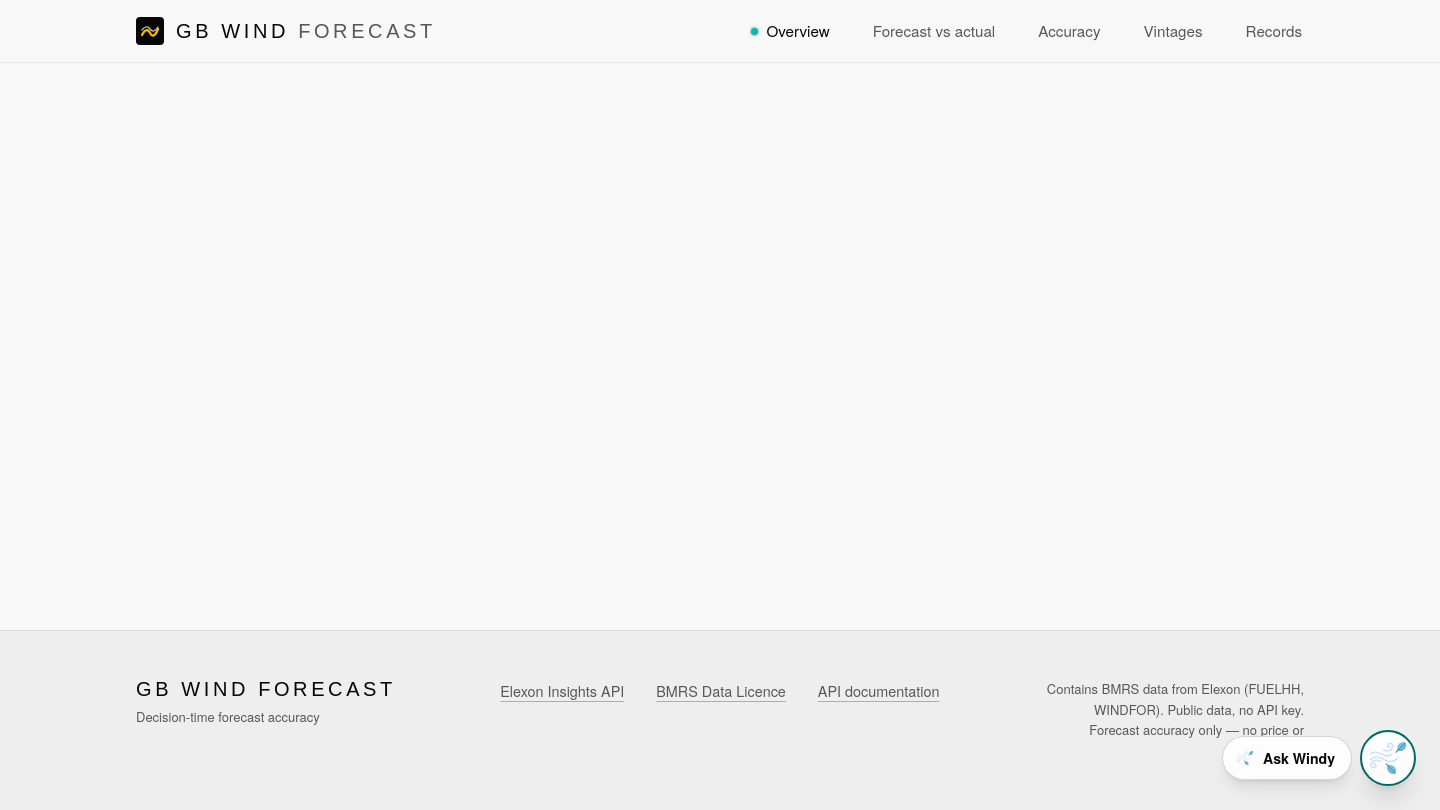
WindyWidget › renders floating launcher and toggles open/close
This screenshot has width=1440, height=810.
// Open chat
Click the button named "Open Windy".
click(1388, 758)  # box [1360,730,1416,786]
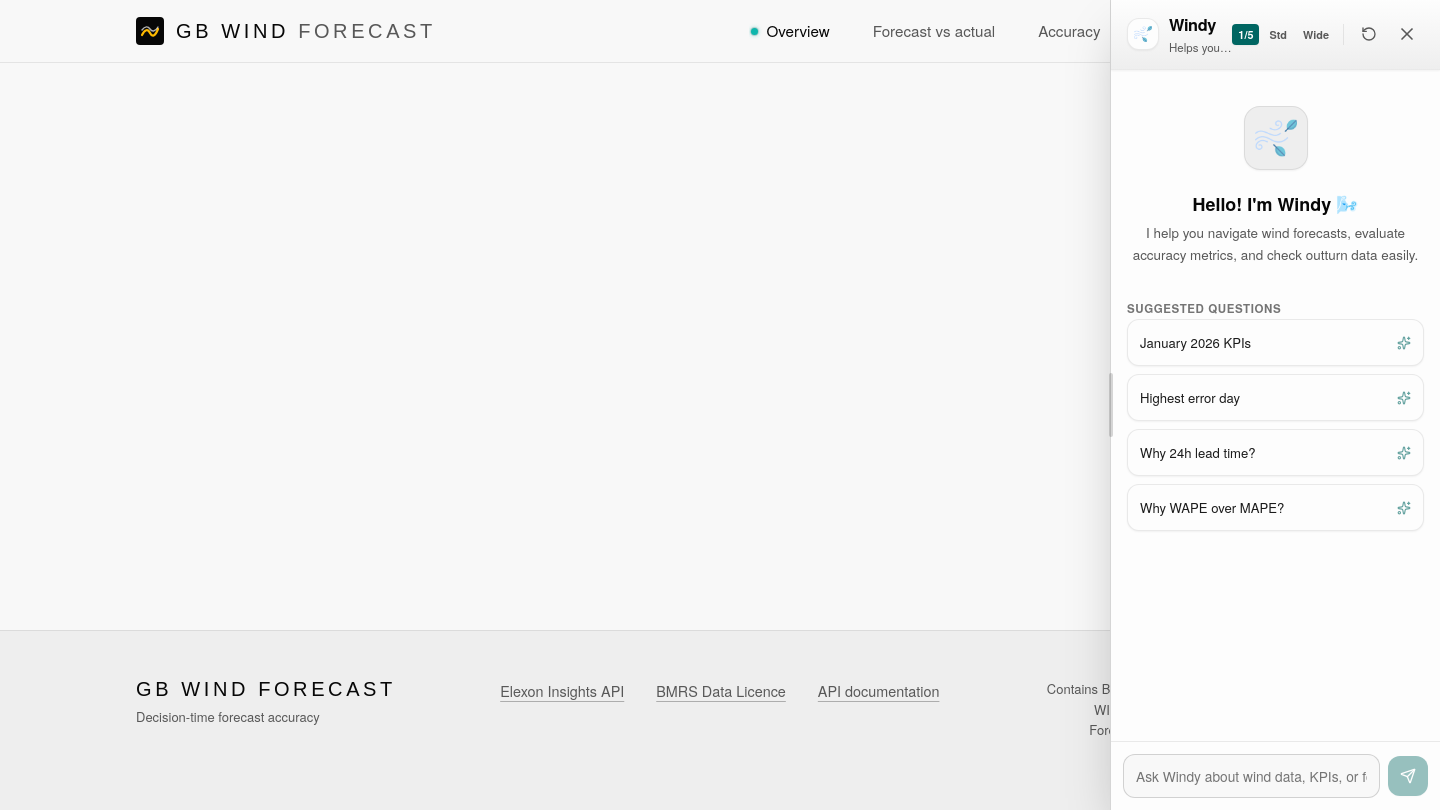
Expected: the dialog "Windy" is shown, [1110,0,1439,809]
Expected: the heading "Hello! I'm Windy 🌬️" is shown, [1192,190,1358,216]
Expected: the text "Helps you explore forecasts and data easily" is shown, [1169,38,1232,56]
// Close chat
Click the button named "Close Windy drawer".
click(1407, 34)  # box [1390,17,1424,51]
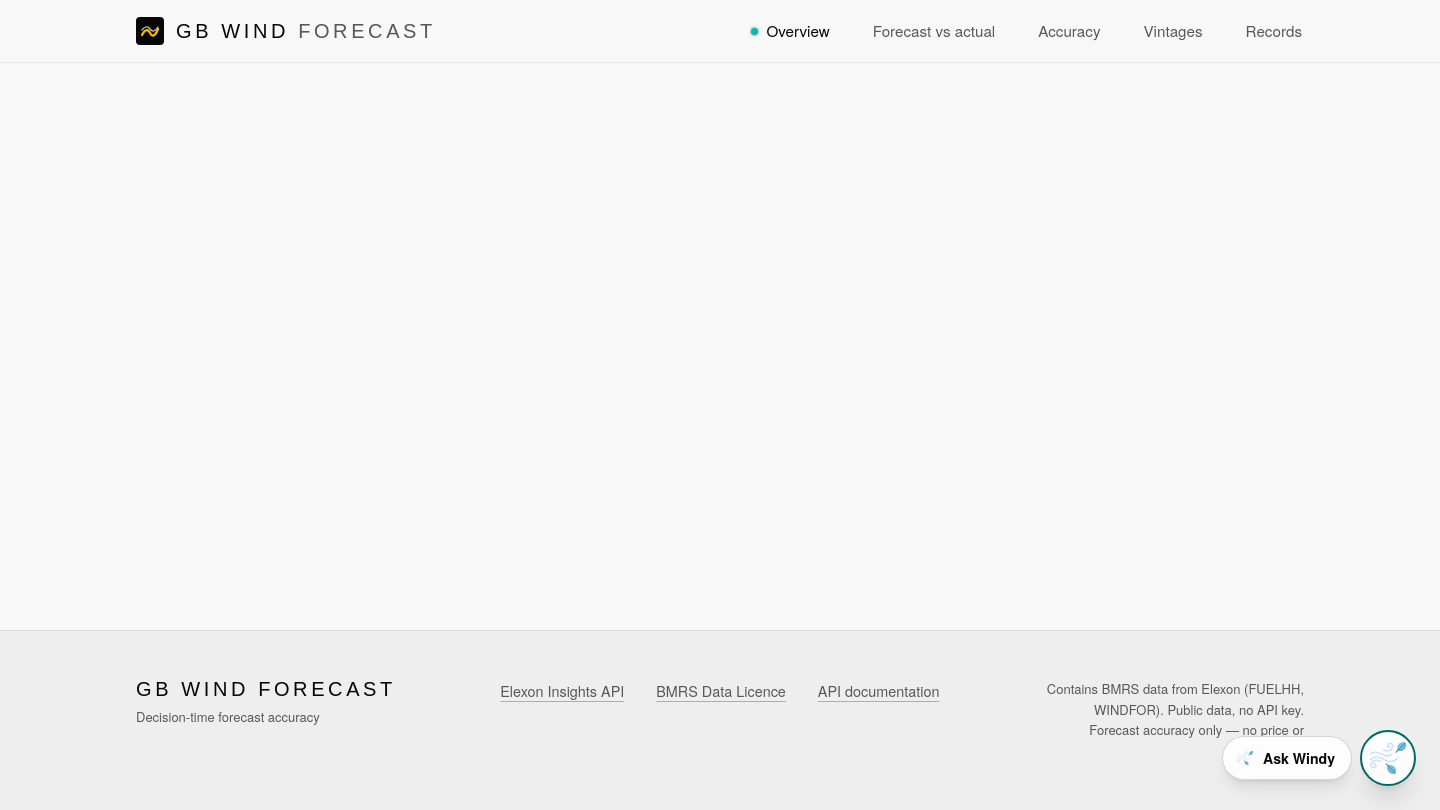
Expected: the dialog is gone
